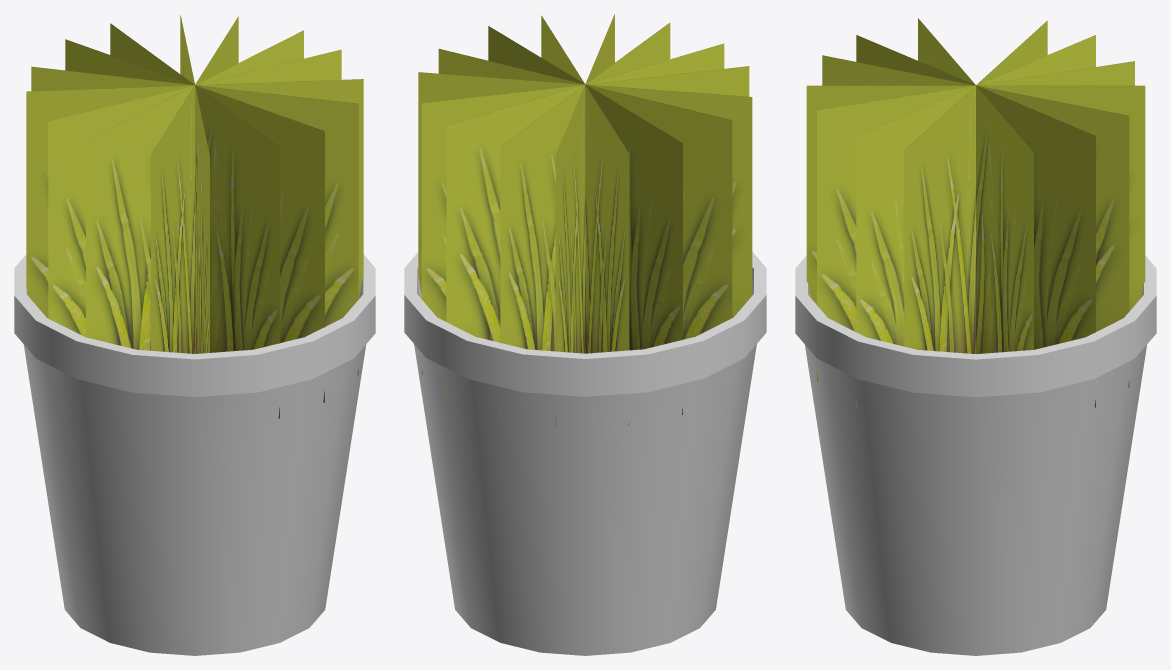
The model's file is vase_grass.FBX.
The picture shows the model from 3 angles, left to right: view 1: azimuth 30°, elevation 25°; view 2: azimuth 150°, elevation 25°; view 3: azimuth 270°, elevation 25°; orthographic projection.
Visible parts, largest first — view 1: Plane003, Cylinder001; view 2: Plane003, Cylinder001; view 3: Plane003, Cylinder001.
Boxes of the visible parts, <box> form: Plane003: <box>26,15,363,425</box>; Cylinder001: <box>14,255,375,655</box>; Plane003: <box>418,14,752,426</box>; Cylinder001: <box>404,252,766,655</box>; Plane003: <box>806,18,1145,421</box>; Cylinder001: <box>795,256,1156,655</box>.
Bounding box in the file's own units: 0.4202 × 0.6499 × 0.4138.
